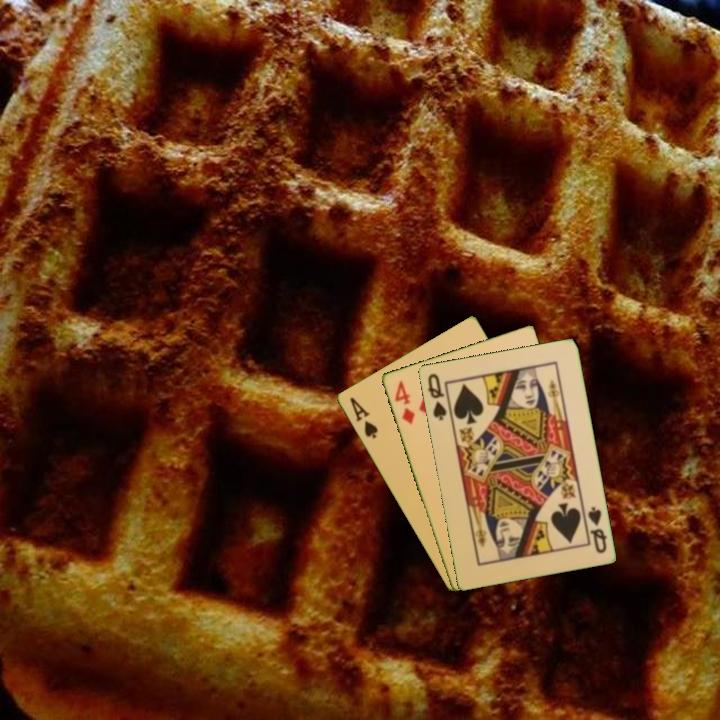4d: (391, 377, 418, 427)
As: (346, 394, 380, 442)
Qs: (580, 503, 609, 556), (424, 370, 449, 423)
